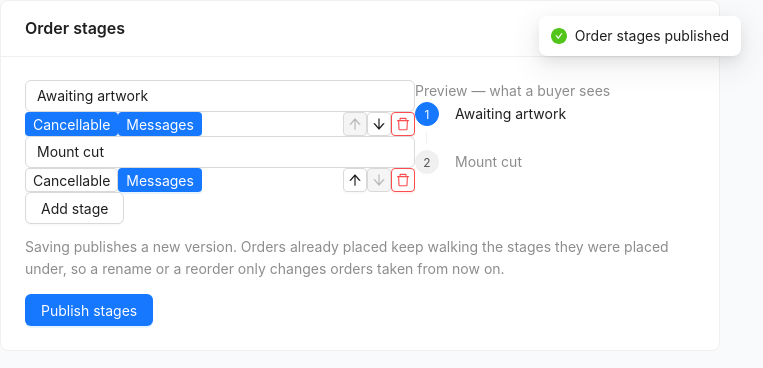
Test case: StageEditor › refuses to publish a blank stage name
Step 1. Clear the field named "Stage 1 name" → (220, 96), box [25,80,415,112]
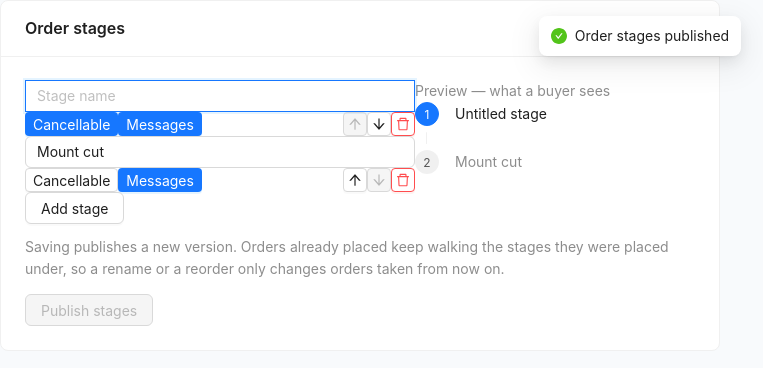
Expected: the button "Publish stages" is disabled, [25,294,153,326]
